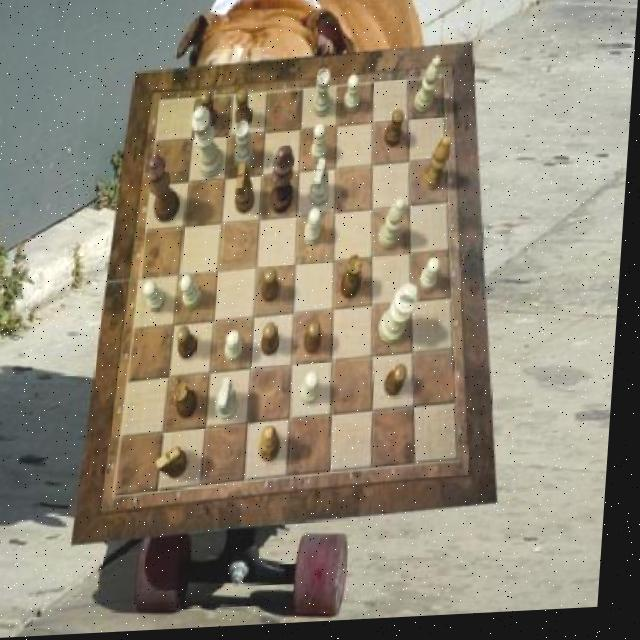bishop: (426, 140, 455, 195), (265, 429, 288, 466)
black-bishop: (272, 147, 299, 217)
black-king: (237, 166, 260, 218), (162, 448, 196, 482)
black-knight: (200, 92, 220, 133), (179, 329, 203, 363), (389, 369, 413, 402), (386, 114, 406, 152), (237, 93, 256, 132), (265, 271, 286, 306), (308, 323, 328, 358), (265, 325, 285, 359)
black-pawn: (145, 157, 185, 226)
black-queen: (176, 382, 205, 421), (345, 258, 367, 303)
black-rook: (416, 61, 443, 119), (381, 201, 408, 255)
white-bishop: (383, 288, 423, 350)
white-king: (311, 162, 334, 211), (222, 380, 247, 423)
white-knight: (146, 283, 172, 317), (183, 276, 208, 311), (424, 262, 445, 297), (306, 212, 325, 249), (314, 128, 332, 167), (345, 79, 363, 118), (230, 332, 251, 364), (306, 375, 325, 410)
white-pawn: (190, 109, 229, 183)
white-queen: (237, 123, 259, 170), (315, 73, 335, 122)
